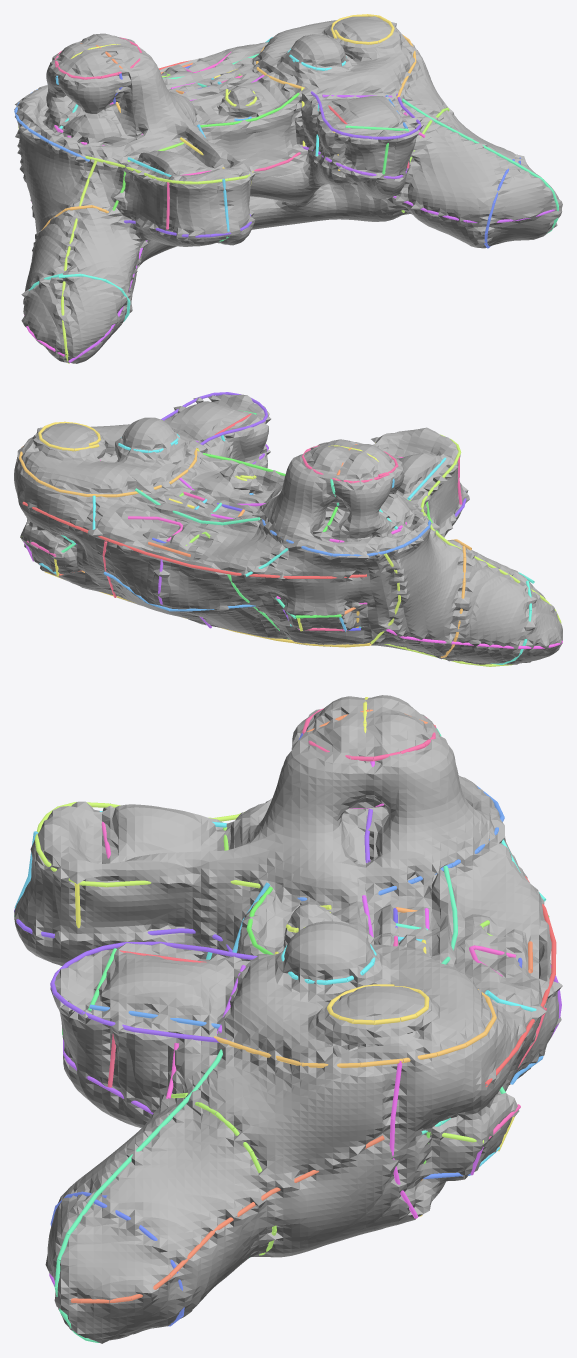
The model's file is author2_gamepad.gltf.
The picture shows the model from 3 angles, top to bottom: view 1: azimuth 30°, elevation 25°; view 2: azimuth 150°, elevation 25°; view 3: azimuth 270°, elevation 25°; orthographic projection. The views are drawn at different scales.
Bounding box in the file's own units: 0.8146 × 0.3625 × 0.4679.
